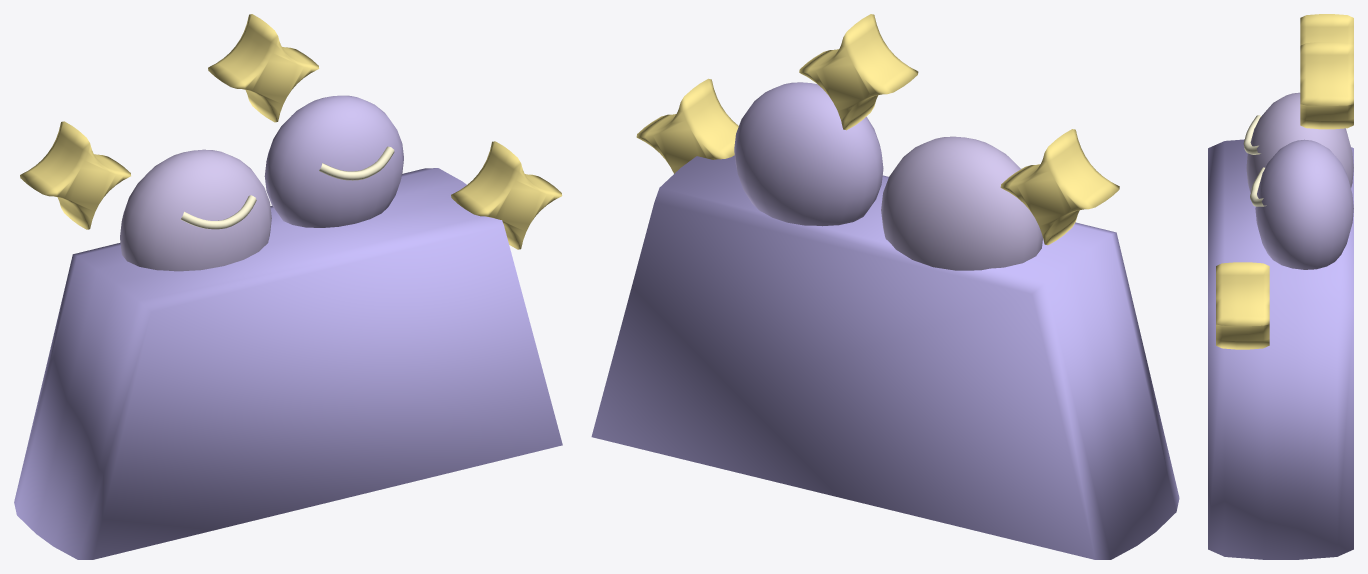
The model's file is decor_4_star.glb.
The picture shows the model from 3 angles, left to right: view 1: azimuth 30°, elevation 25°; view 2: azimuth 150°, elevation 25°; view 3: azimuth 270°, elevation 25°; orthographic projection. The views are drawn at different scales.
Visible parts, largest first — view 1: decor_4_star; view 2: decor_4_star; view 3: decor_4_star.
Part boxes in pixels (x1,y1,x2,y2): decor_4_star: [14, 14, 562, 559]; decor_4_star: [591, 14, 1179, 559]; decor_4_star: [1208, 14, 1353, 559].
Size of the model in its own units: 8.3 by 7.18 by 2.33.
